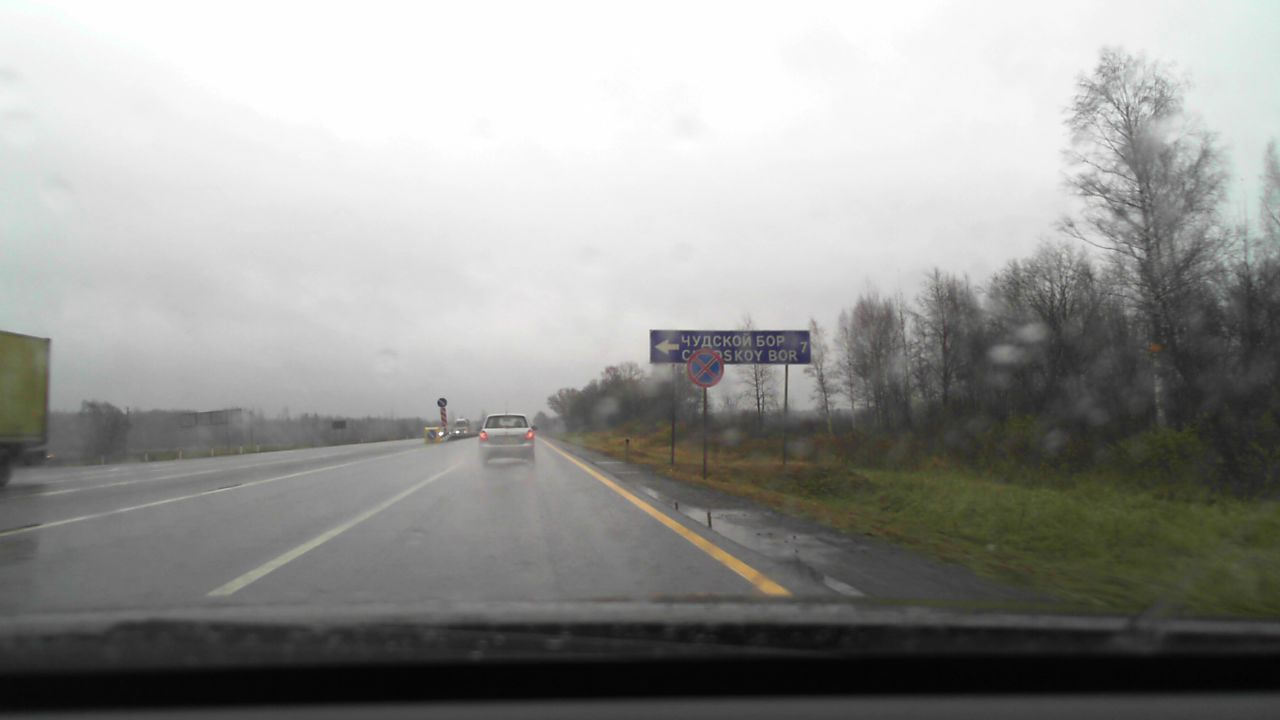No Parking: (687, 349, 723, 387)
